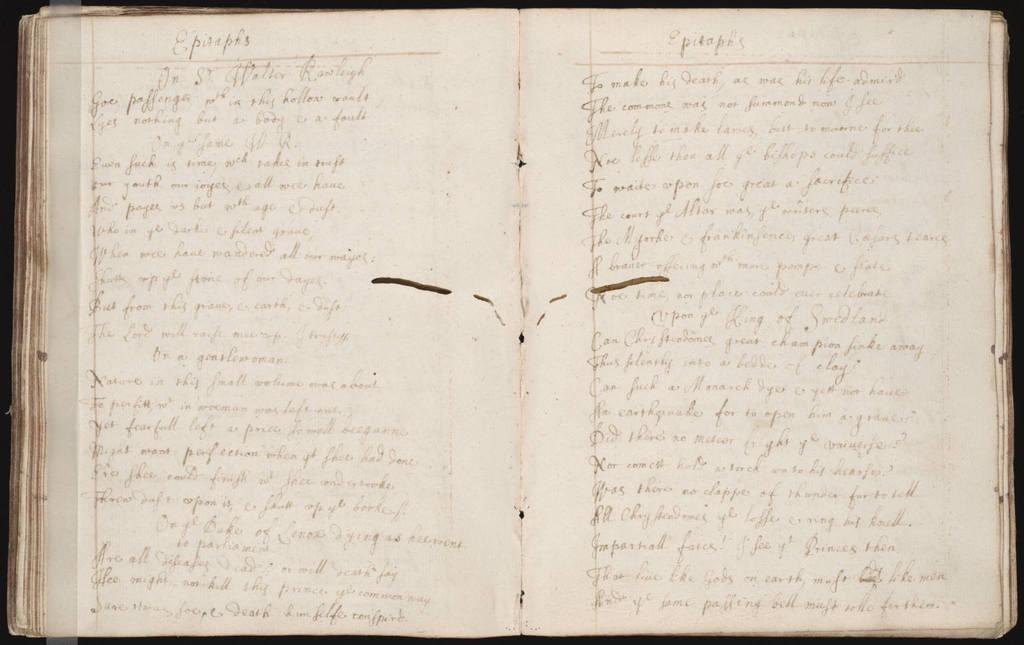book: (8, 6, 1017, 640)
